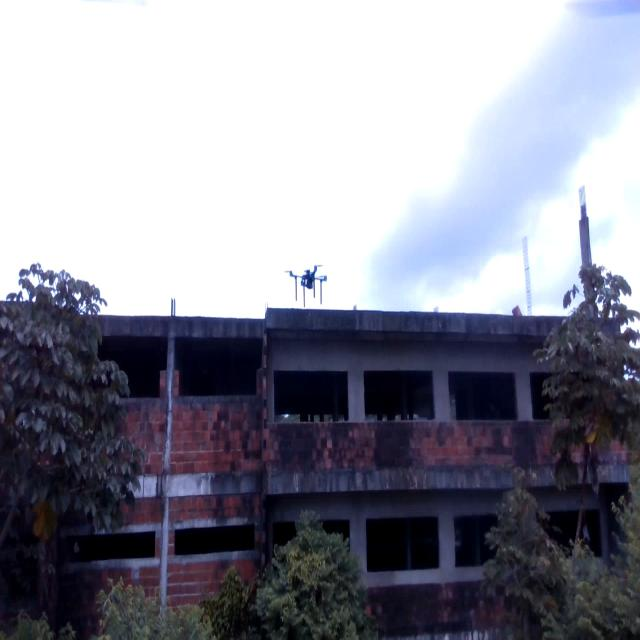-uav-: (278, 259, 336, 313)
